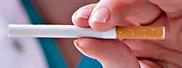smoke: (6, 23, 164, 38)
